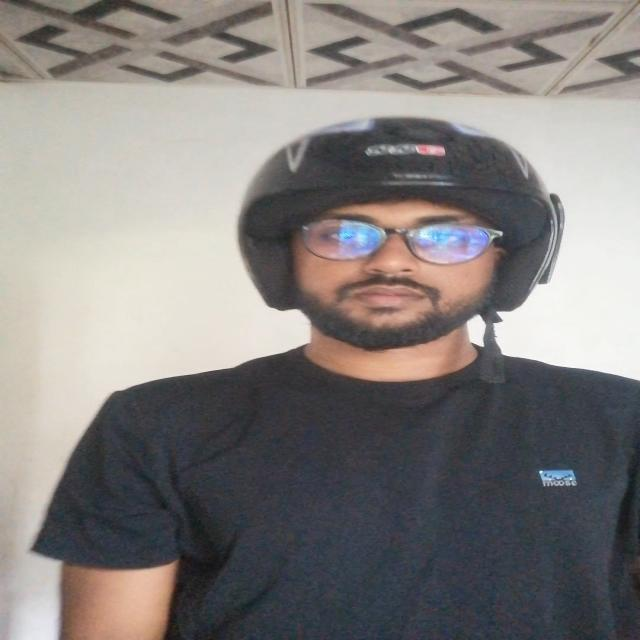Helmet_Wearer: (228, 115, 581, 418)
Person: (10, 94, 640, 640)
